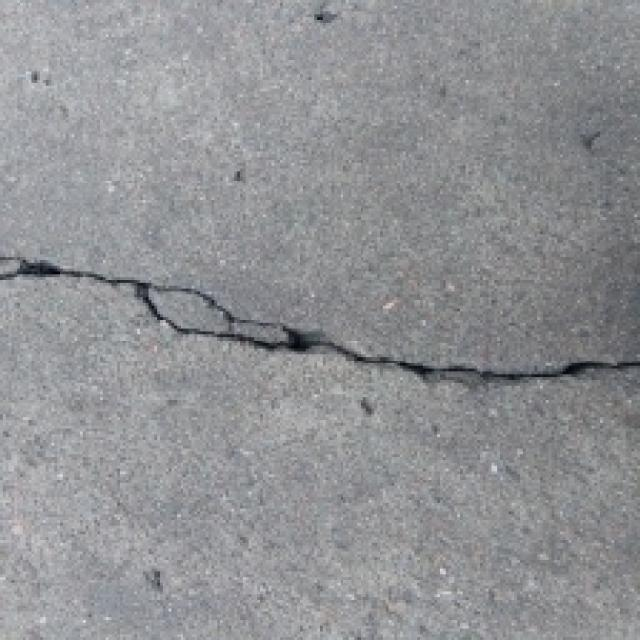crack: (0, 218, 640, 426)
